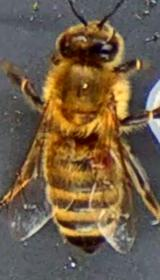varroa_mite: (83, 144, 114, 172)
